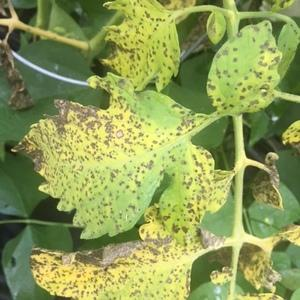Tomato leaf late blight: (8, 76, 194, 243), (18, 189, 228, 296), (86, 2, 183, 99), (202, 17, 285, 127), (157, 139, 234, 242)
